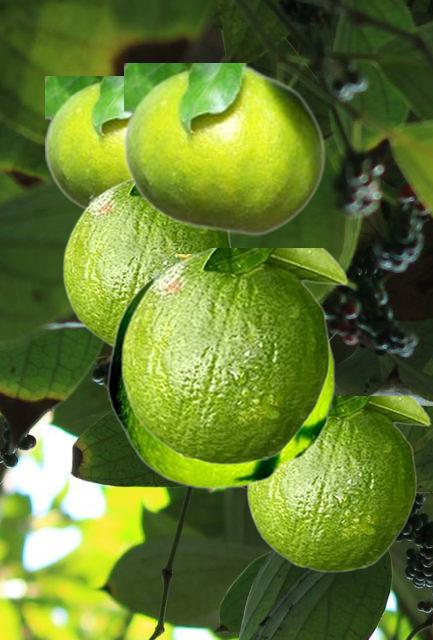dalandan: (107, 254, 334, 488), (120, 248, 347, 464), (124, 63, 325, 235), (246, 396, 430, 571), (62, 177, 233, 347), (45, 76, 128, 210)
